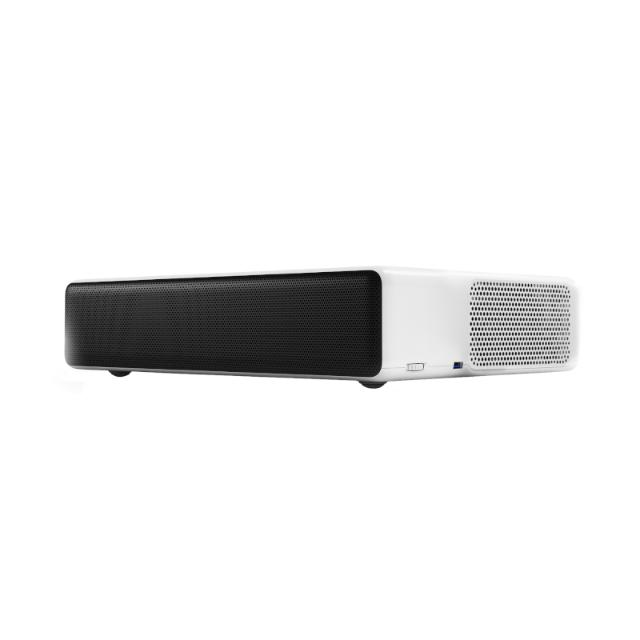Projector: (27, 236, 600, 434)
